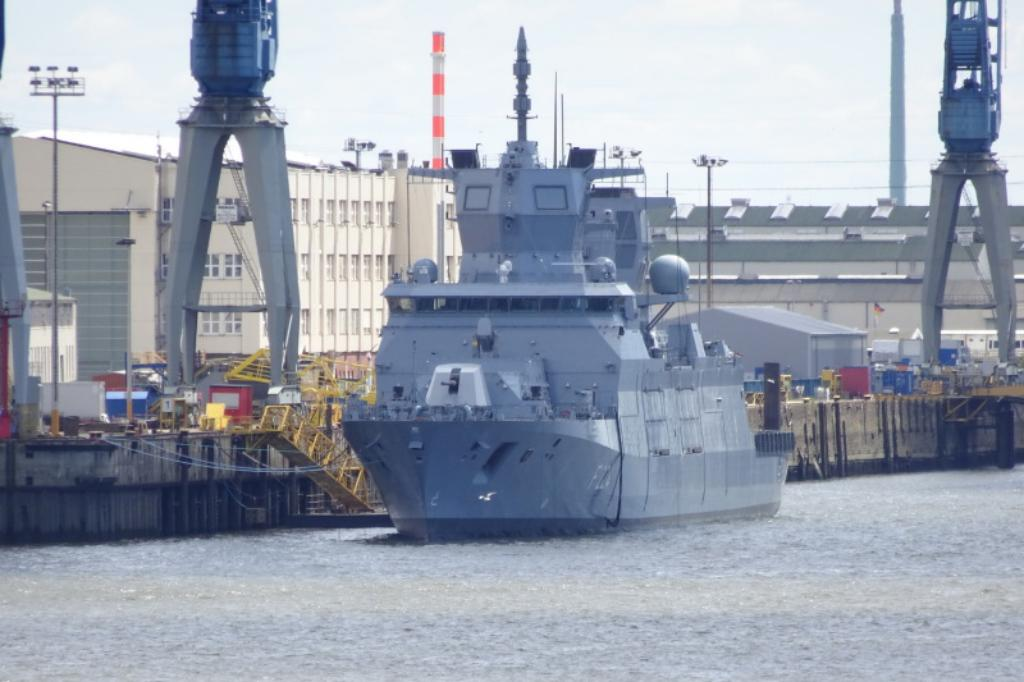Warship: (341, 24, 791, 546)
